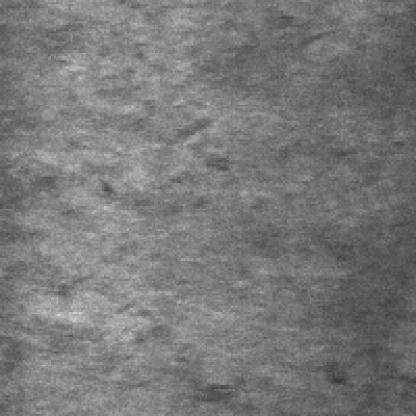rolled-in_scale: (134, 64, 250, 214)
